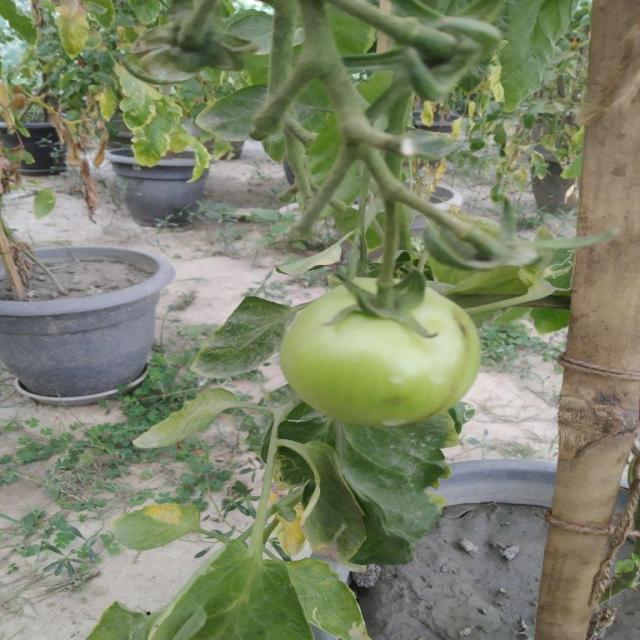Unripe: (280, 278, 480, 428)
